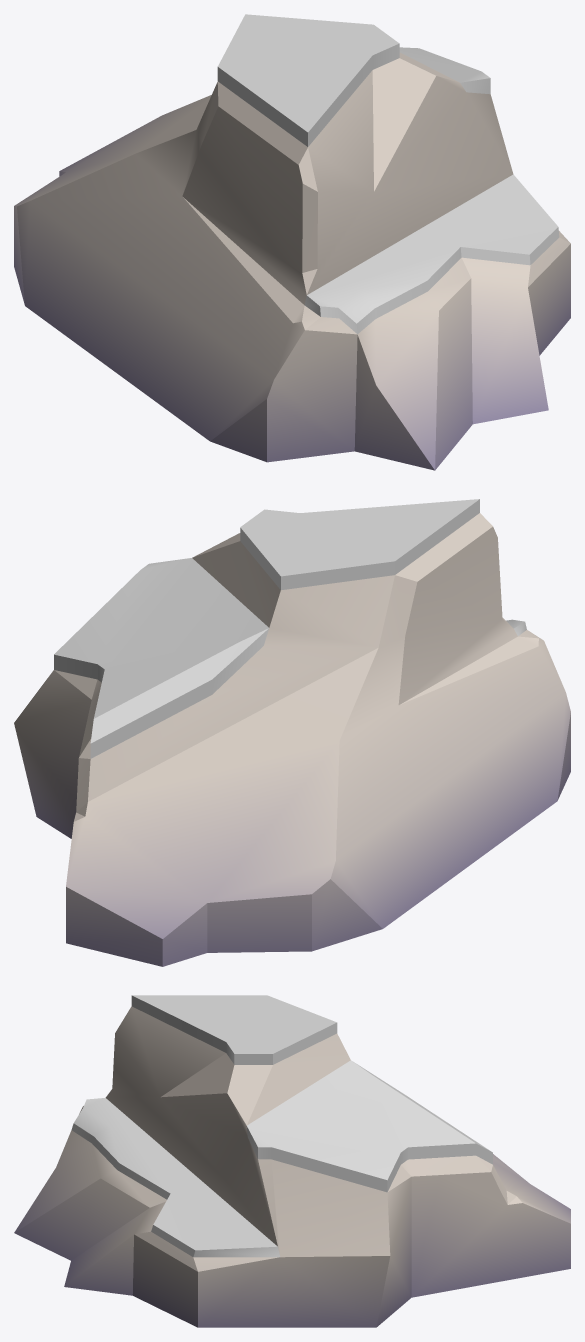
The model's file is rock4.fbx.
3 renders of one model, top to bottom at view 1: azimuth 30°, elevation 25°; view 2: azimuth 150°, elevation 25°; view 3: azimuth 270°, elevation 25°, orthographic. The views are drawn at different scales.
Visible parts, largest first — view 1: Rock4; view 2: Rock4; view 3: Rock4.
Boxes of the visible parts, box(x1,y1,x2,y2) form: Rock4: box(14, 14, 570, 470); Rock4: box(14, 499, 570, 966); Rock4: box(14, 995, 570, 1327).
Size of the model in its own units: 310 by 211 by 483.
